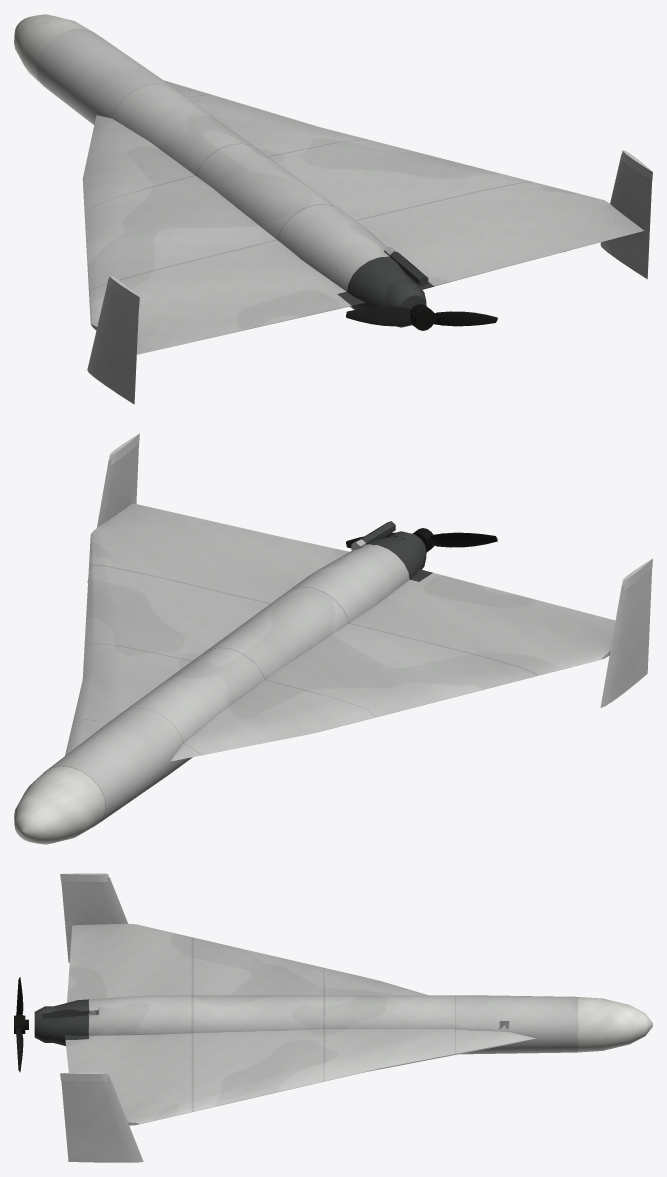
The model's file is ir_shahed.glb.
3 views of the same model, one above another, from view 1: azimuth 30°, elevation 25°; view 2: azimuth 150°, elevation 25°; view 3: azimuth 270°, elevation 25° (orthographic). The views are drawn at different scales.
Parts seen in each view (by area): view 1: Body, Prop0; view 2: Body, Prop0; view 3: Body, Prop0.
Boxes of the visible parts, box(x1,y1,x2,y2) form: Body: box(14, 14, 652, 404); Prop0: box(346, 304, 497, 330); Body: box(14, 433, 652, 844); Prop0: box(346, 528, 497, 551); Body: box(34, 873, 652, 1162); Prop0: box(14, 977, 28, 1072).
Bounding box in the file's own units: 2.53 × 0.52 × 3.4.
3 materials, 2 textured.
